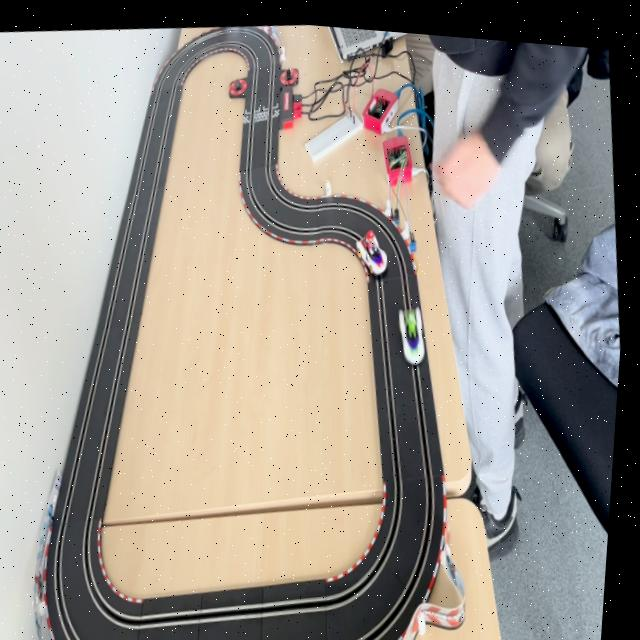mario: (353, 217, 395, 274)
yoshi: (396, 295, 428, 351)
